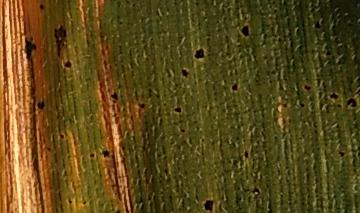tarspot: (52, 23, 70, 61), (23, 36, 37, 61), (193, 48, 206, 61), (202, 198, 214, 212), (344, 98, 360, 108), (251, 185, 261, 201), (240, 24, 250, 38), (109, 91, 120, 103), (179, 67, 190, 79), (36, 100, 46, 110), (329, 92, 339, 102), (63, 61, 73, 70), (173, 105, 182, 115), (336, 150, 346, 159), (101, 149, 110, 158), (136, 101, 145, 110), (302, 84, 312, 92), (313, 20, 321, 30), (230, 82, 238, 92), (57, 132, 66, 140), (243, 149, 249, 160), (298, 100, 305, 109), (354, 86, 360, 96), (88, 152, 96, 159), (178, 127, 186, 134), (276, 36, 283, 44), (130, 2, 138, 9), (66, 198, 73, 205), (117, 20, 124, 27), (38, 3, 44, 11), (113, 209, 122, 213), (81, 200, 87, 206), (296, 28, 300, 34)
